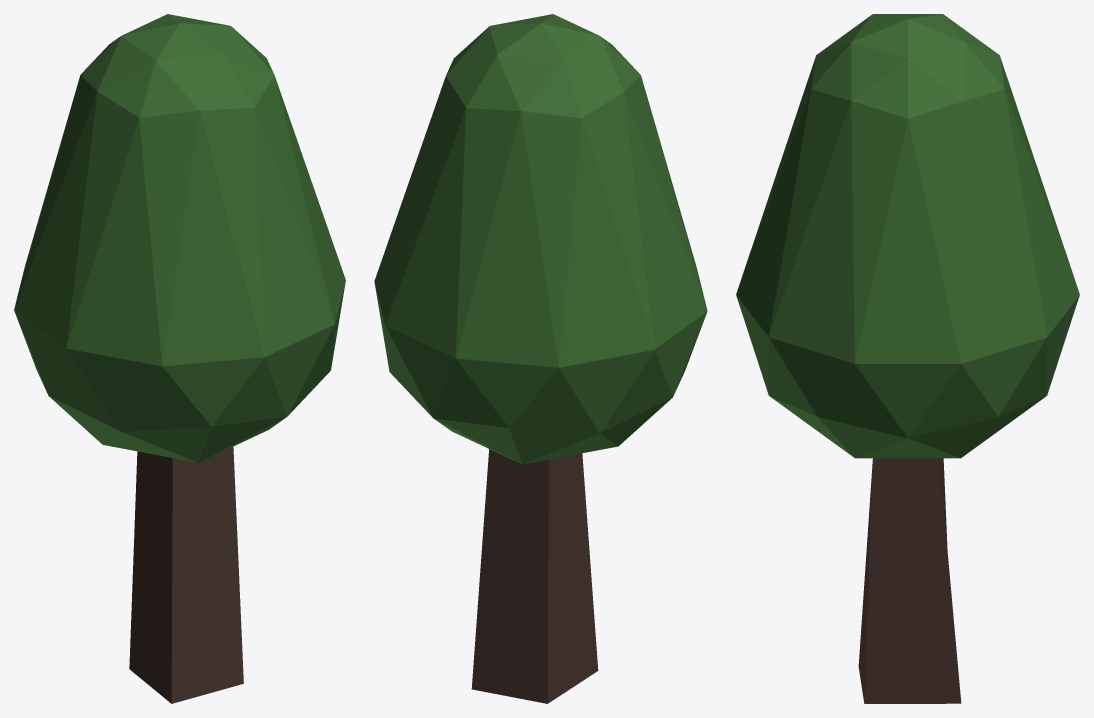
The model's file is TreeV4.fbx.
3 views of the same model, side by side, from view 1: azimuth 30°, elevation 25°; view 2: azimuth 150°, elevation 25°; view 3: azimuth 270°, elevation 25° (orthographic).
Parts seen in each view (by area): view 1: Icosphere, Cube; view 2: Icosphere, Cube; view 3: Icosphere, Cube.
Boxes of the visible parts, left/top/right/bottom form: Icosphere: left=14, top=14, right=345, bottom=462; Cube: left=129, top=447, right=243, bottom=703; Icosphere: left=374, top=14, right=707, bottom=464; Cube: left=471, top=449, right=598, bottom=703; Icosphere: left=736, top=14, right=1079, bottom=458; Cube: left=858, top=458, right=961, bottom=703.
Bounding box in the file's own units: 226 × 505 × 237.
